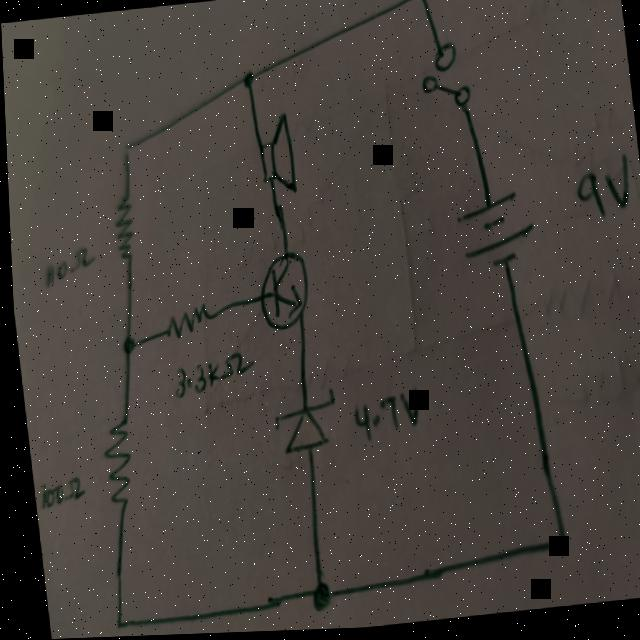diode: (264, 389, 334, 457)
junction: (300, 578, 327, 612), (544, 532, 568, 563), (115, 332, 134, 354), (236, 68, 253, 91), (116, 140, 133, 163), (104, 613, 120, 633), (408, 0, 430, 14)
resistor: (94, 417, 130, 506), (157, 302, 208, 340), (107, 192, 134, 260)
source: (451, 192, 534, 275)
switch: (412, 40, 471, 115)
text: (169, 349, 253, 396), (346, 391, 418, 440), (572, 170, 629, 219), (38, 244, 95, 285), (32, 473, 82, 506)
transistor: (249, 248, 309, 332)
